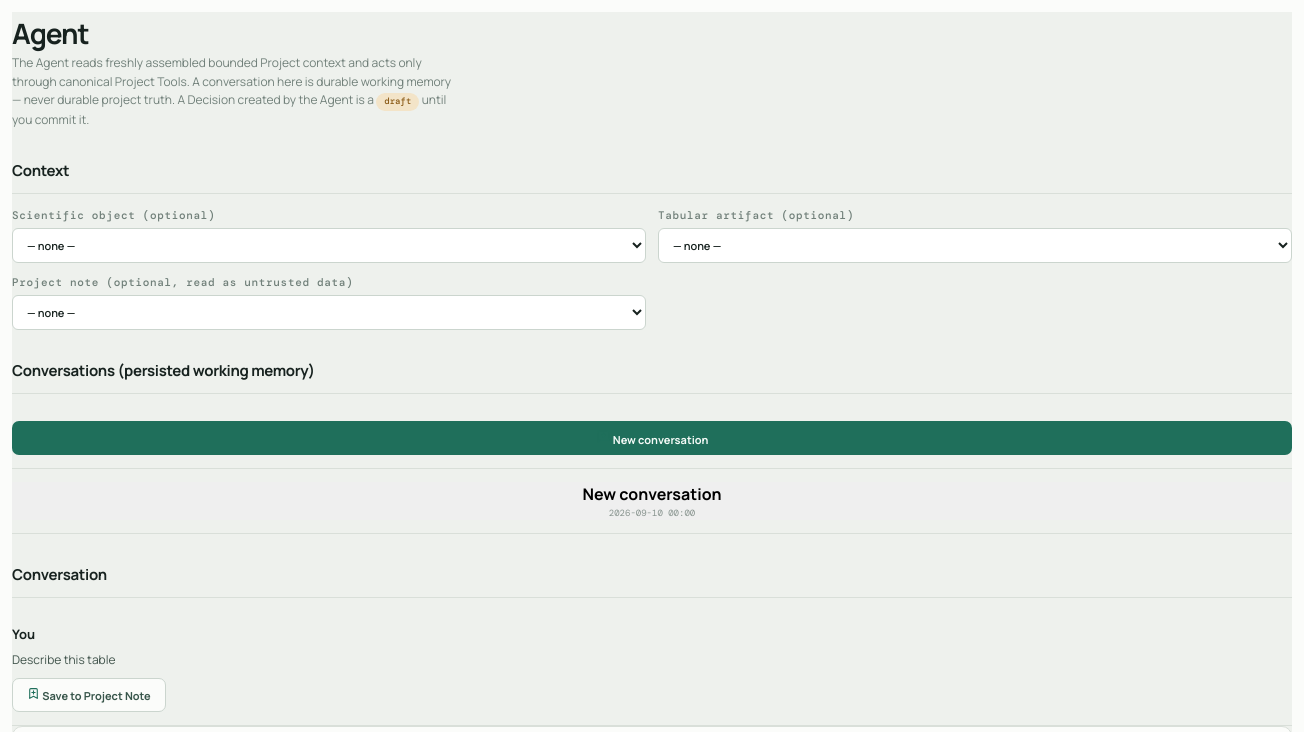
Agent view (Phase 9) › captures conversation content into a Note only on explicit human action
This screenshot has width=1304, height=732.
Click the button with aria-label "Save message to project note" at (89, 694), box [12,678,166,712]
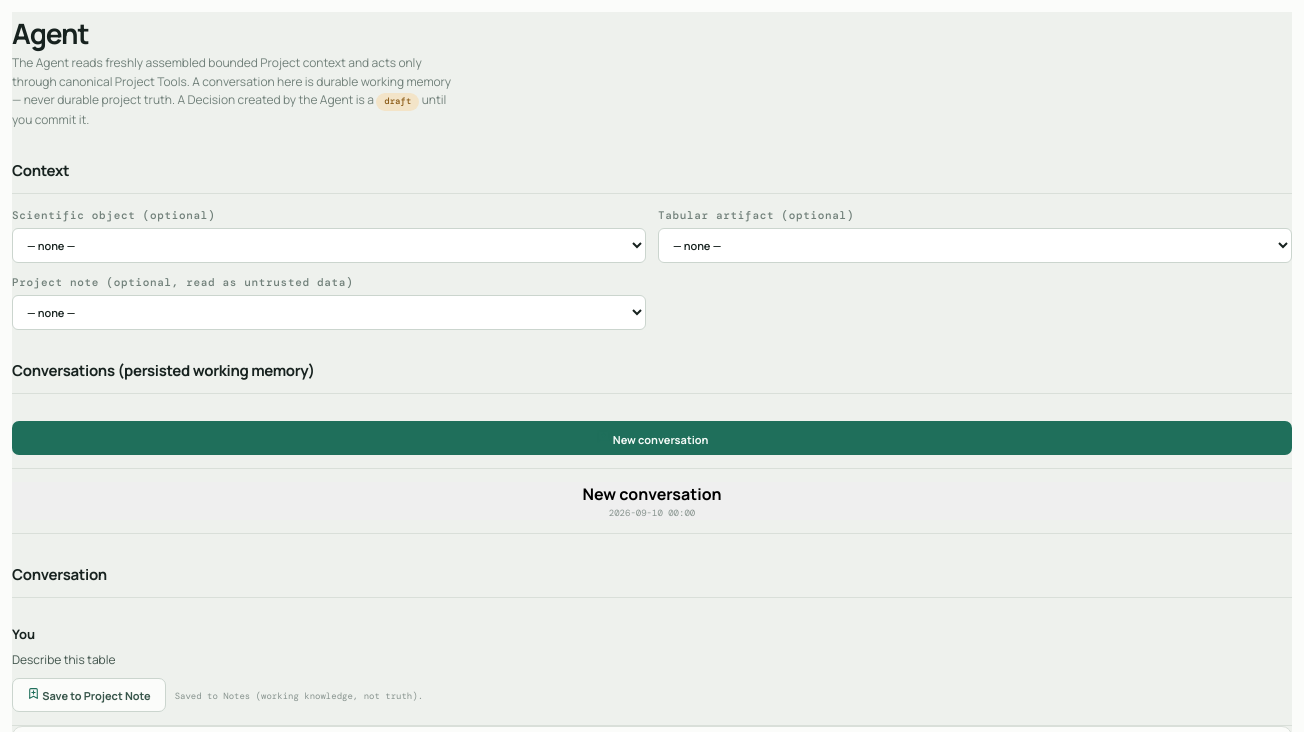
Result: the text "Saved to Notes (working knowledge, not truth)." is shown at [175,690,423,702]
